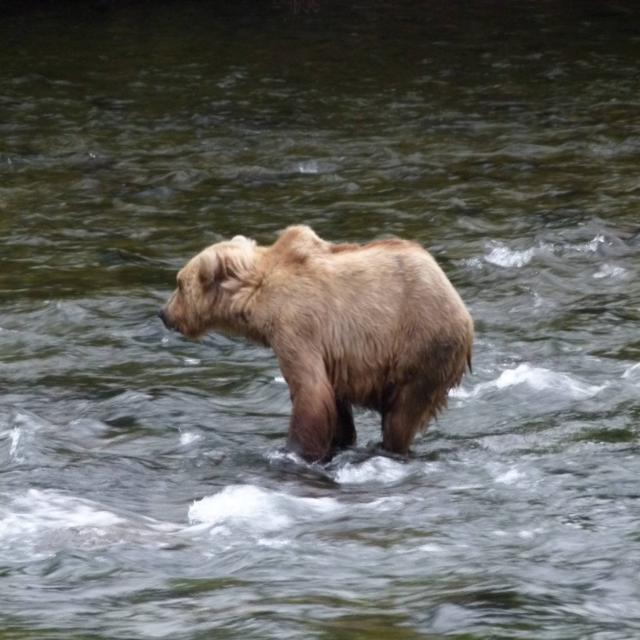bear face: (181, 220, 473, 449)
